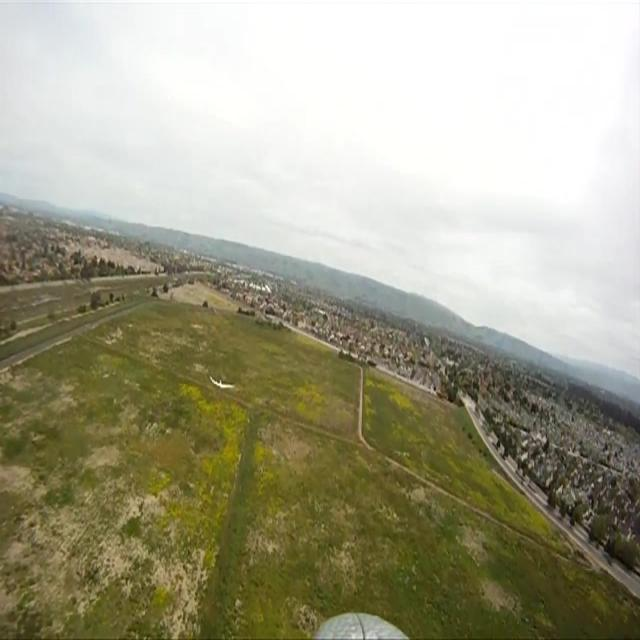iha: (208, 375, 236, 391)
